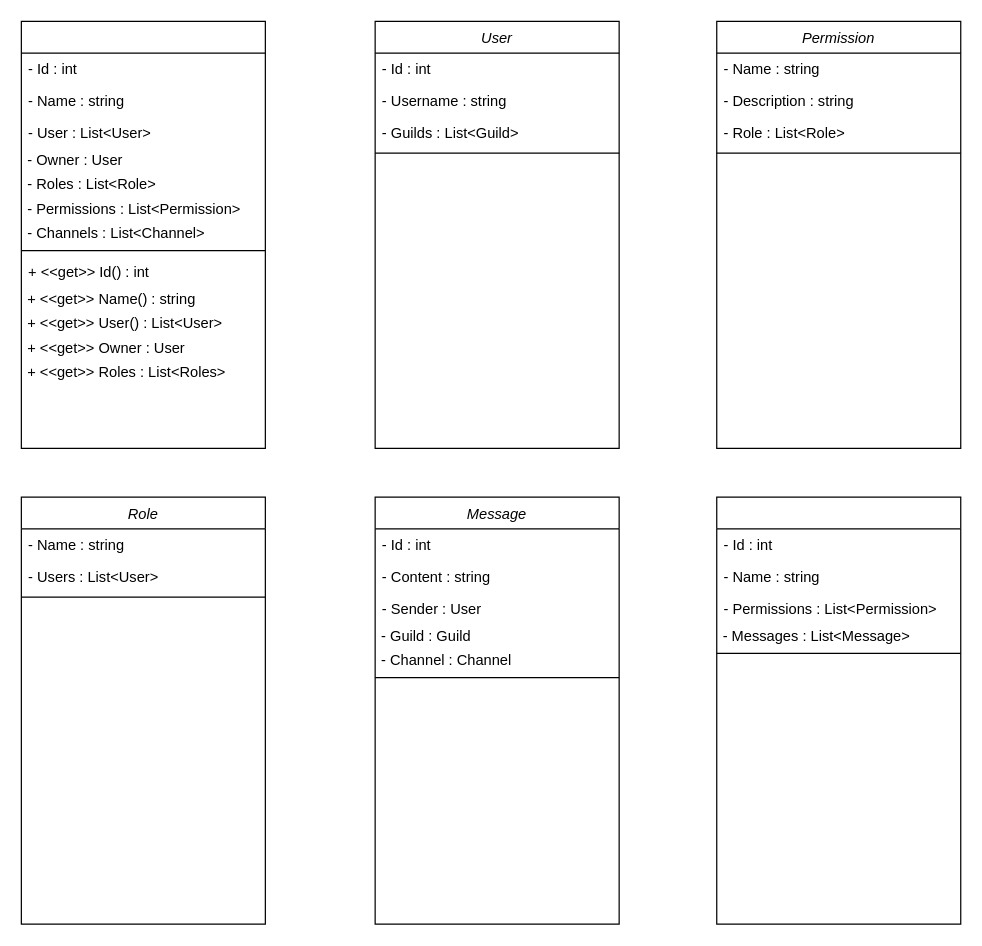
This 982x946 diagram has some shape labels left out. The shapes that lost their labels are listed below. From the top down, each one's box as (x1, y1, x2, y2) in pixels, then its label:
(20, 20, 265, 448): Guild
(716, 496, 961, 924): Channel
